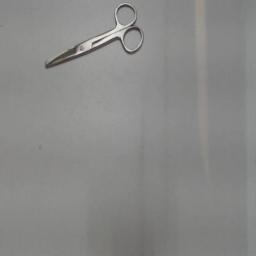Dressing Scissors: (38, 1, 150, 75)
